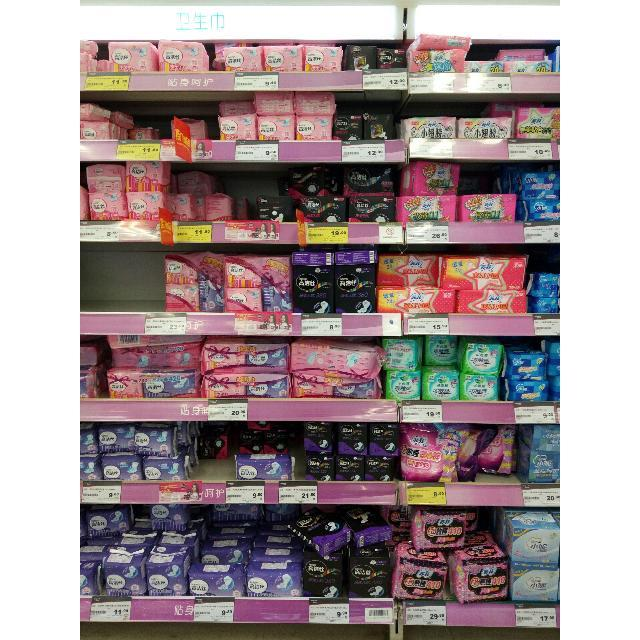empty: (80, 242, 166, 314)
front: (201, 460, 235, 480), (476, 476, 520, 484)
